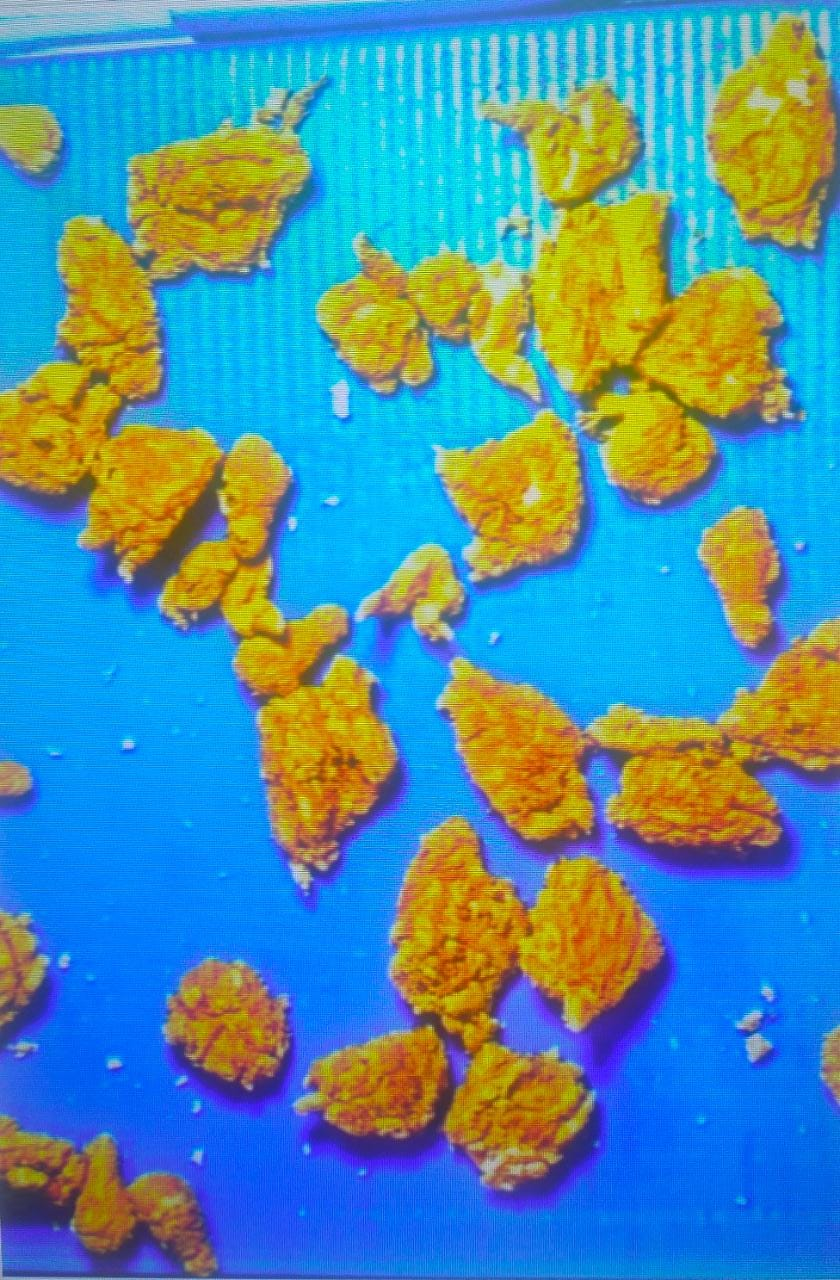chicken 1: (530, 208, 799, 425), (124, 78, 340, 284), (316, 229, 548, 415), (254, 651, 401, 878), (707, 4, 838, 253), (387, 815, 524, 1051), (440, 653, 599, 855), (591, 698, 791, 849), (424, 414, 587, 588), (526, 855, 669, 1033), (444, 1037, 601, 1194), (75, 419, 218, 582), (57, 214, 169, 402), (477, 86, 648, 206), (295, 1019, 450, 1147), (163, 957, 295, 1096), (579, 388, 722, 502), (1, 359, 120, 494), (691, 500, 791, 653), (130, 1163, 237, 1280), (232, 600, 354, 696), (357, 543, 471, 645), (218, 423, 301, 561), (75, 1127, 136, 1255)
